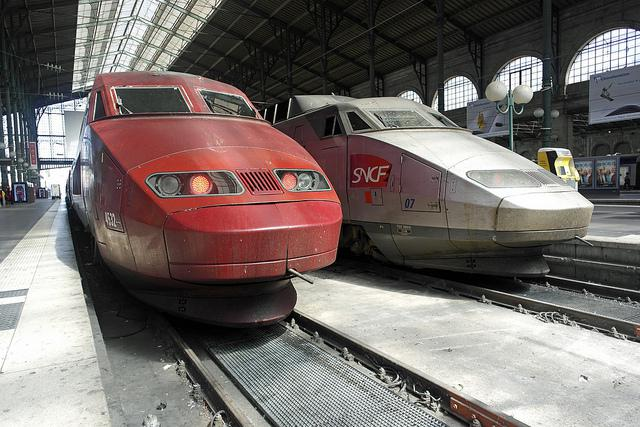Train: (65, 70, 345, 325), (267, 93, 593, 278)
